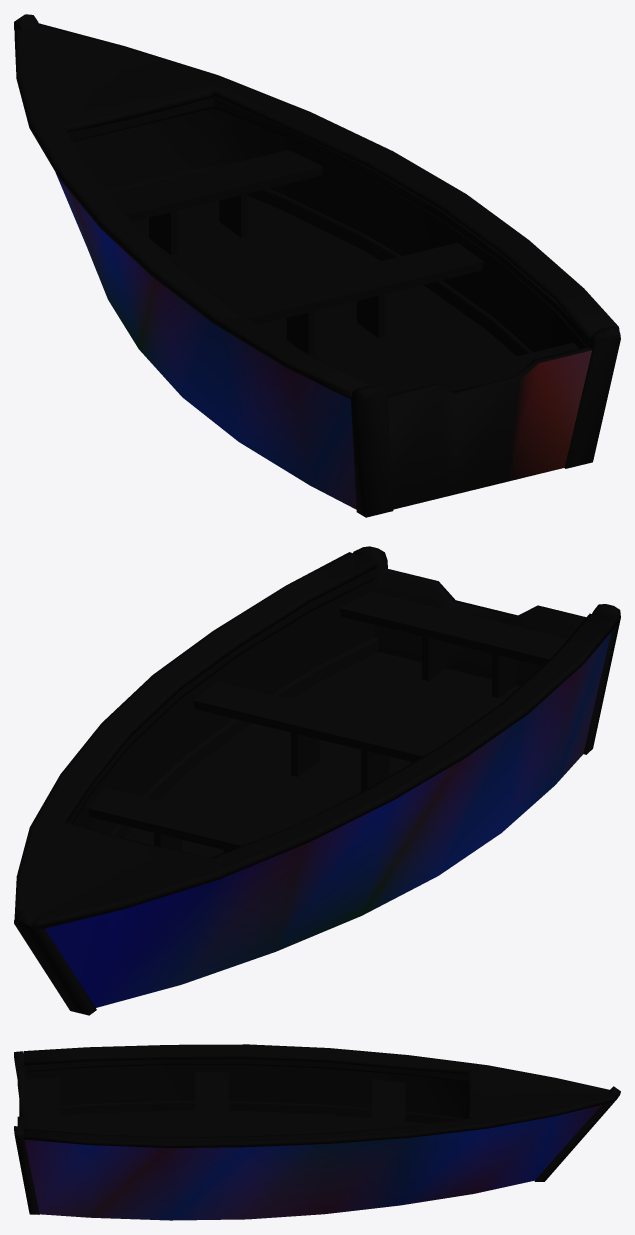
Rendered from Woods_Lake_Boat_01.gltf.
The picture shows the model from 3 angles, top to bottom: view 1: azimuth 30°, elevation 25°; view 2: azimuth 150°, elevation 25°; view 3: azimuth 270°, elevation 25°; orthographic projection. The views are drawn at different scales.
Visible parts, largest first — view 1: Woods_Lake_Boat_01; view 2: Woods_Lake_Boat_01; view 3: Woods_Lake_Boat_01.
Part boxes in pixels (x1=…): Woods_Lake_Boat_01: x1=14, y1=14, x2=620, y2=517; Woods_Lake_Boat_01: x1=14, y1=546, x2=620, y2=1015; Woods_Lake_Boat_01: x1=14, y1=1044, x2=620, y2=1220.
Bounding box in the file's own units: 6.4 × 2.75 × 16.5.
